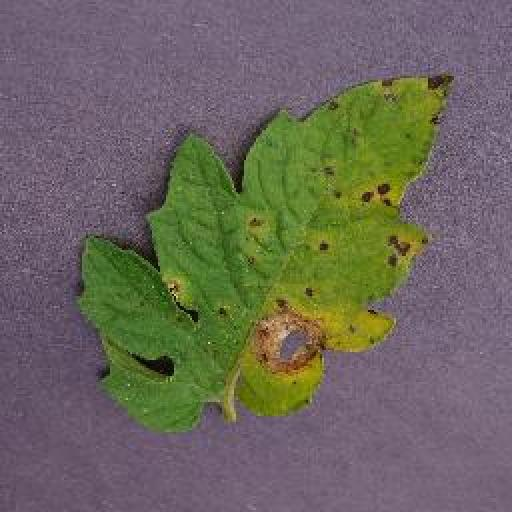disease_tomato: (83, 72, 456, 434)
